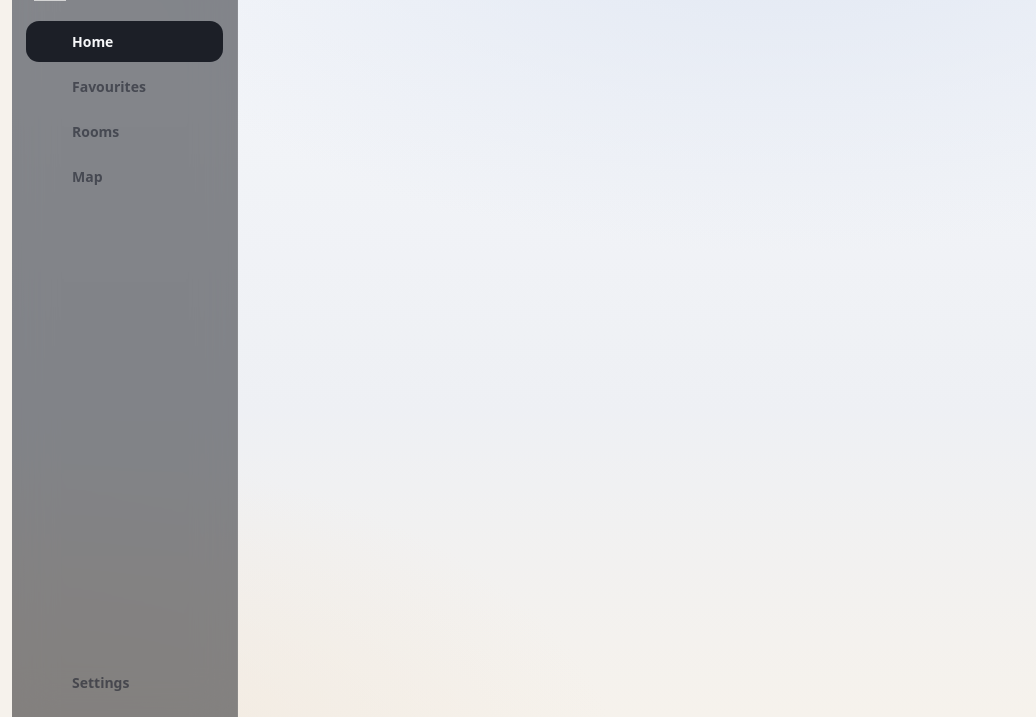
Nav › renders all destinations and navigates on click
This screenshot has width=1036, height=717.
expect the text "Home" is shown: met, box [72, 32, 113, 51]
expect the text "Settings" is shown: met, box [72, 673, 129, 692]
Click the link "Rooms".
click(96, 132)  # box [72, 122, 119, 141]
(page scrolled)
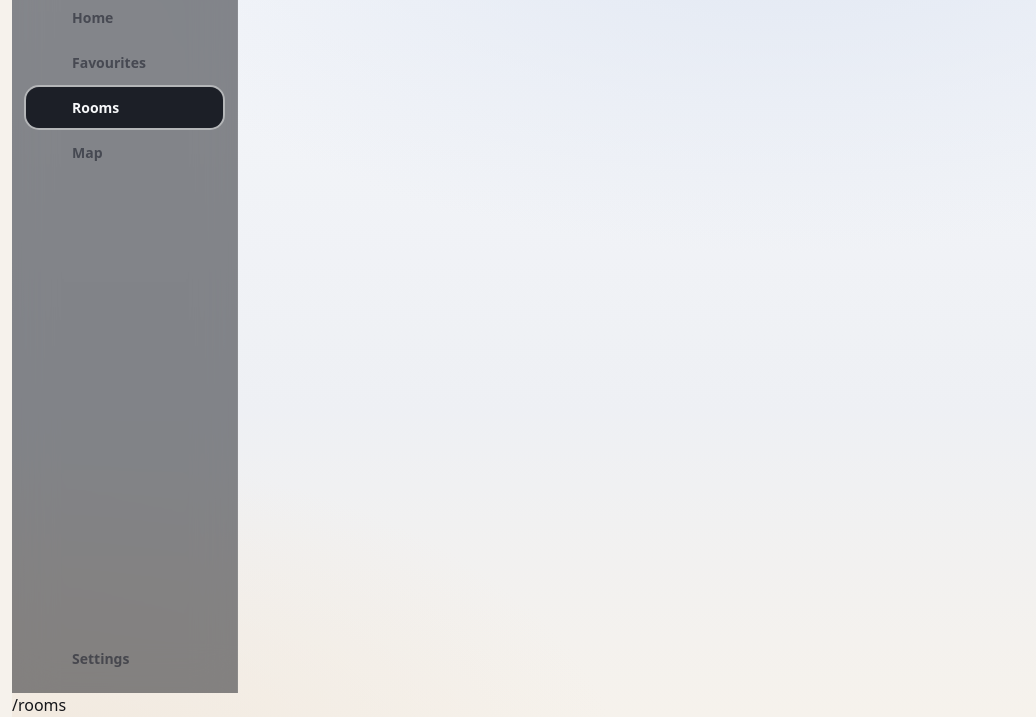
expect the text with test id "location" reads "/rooms": met, box [12, 694, 66, 716]
